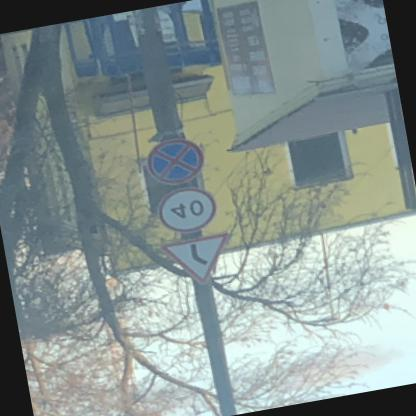speedlimit: (153, 186, 217, 238)
